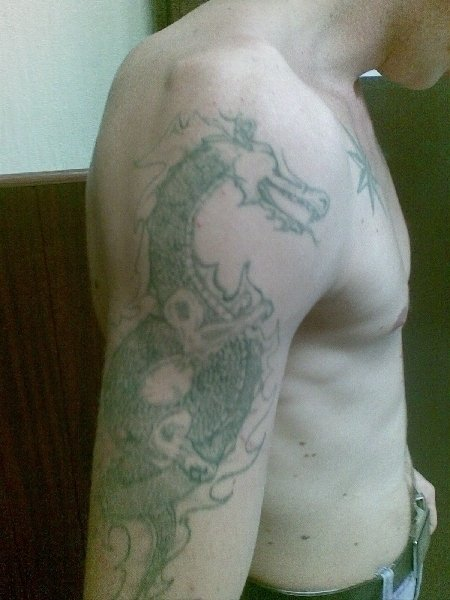tatu6_drakon: (81, 72, 337, 600)
